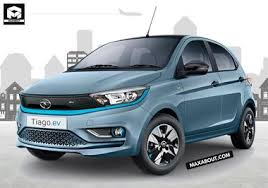Tiago: (15, 34, 258, 176)
